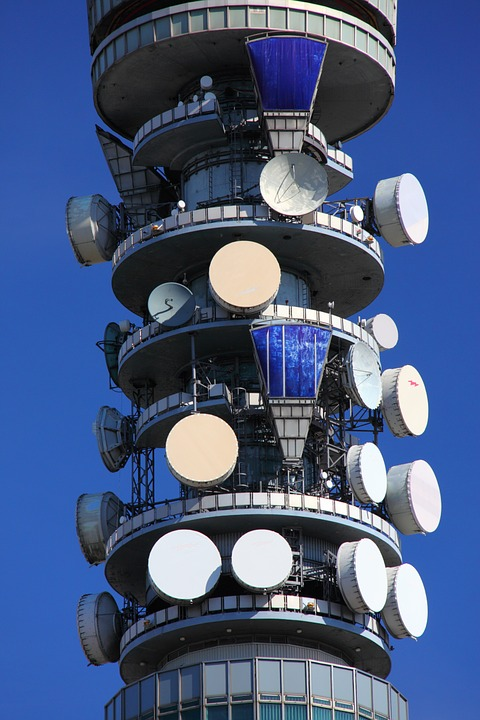b: (147, 528, 222, 603), (167, 412, 241, 486), (209, 239, 277, 313), (372, 175, 434, 246), (231, 529, 295, 592), (382, 366, 434, 440), (337, 542, 388, 617), (387, 465, 440, 535), (67, 193, 115, 269), (78, 592, 124, 666), (391, 570, 431, 641), (93, 409, 131, 469)
